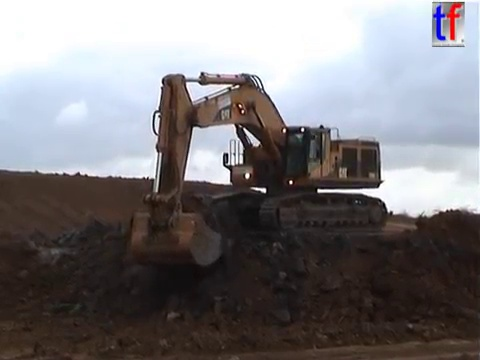excavator: (125, 67, 390, 269)
